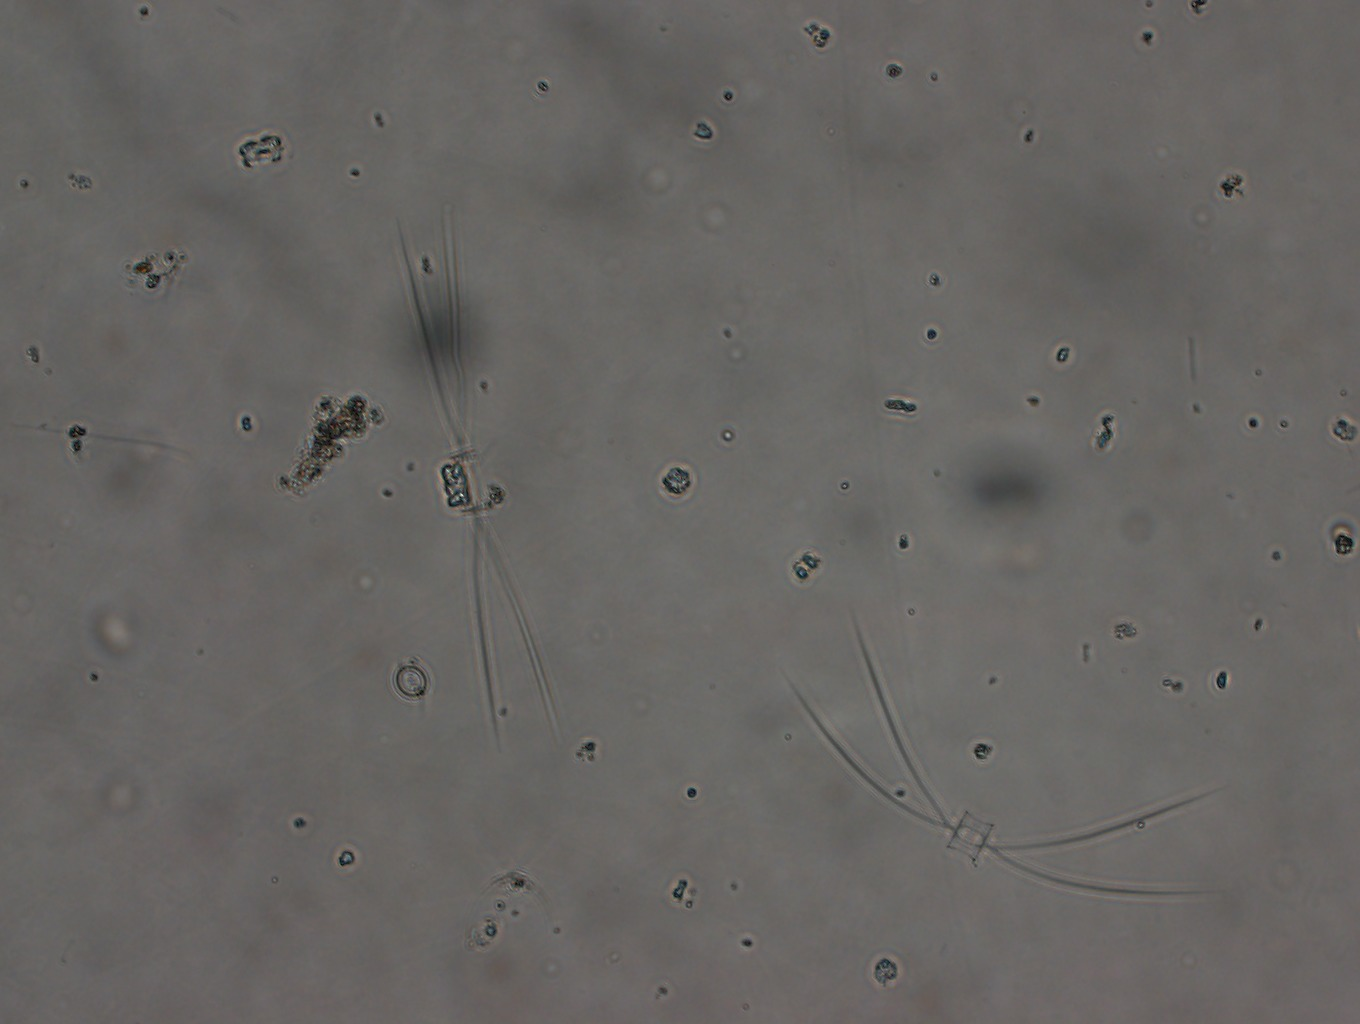chaetoceros: (787, 610, 1223, 901), (392, 207, 562, 753)
